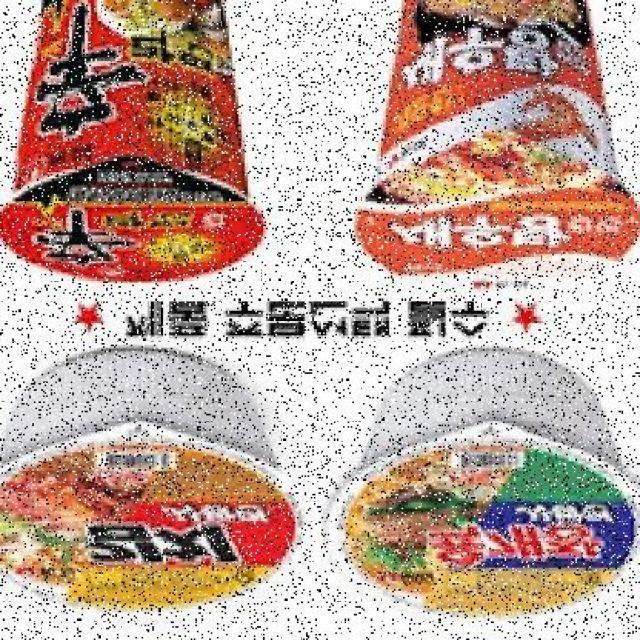Miscellaneous: (335, 351, 640, 618), (0, 354, 289, 612), (0, 2, 263, 284)
